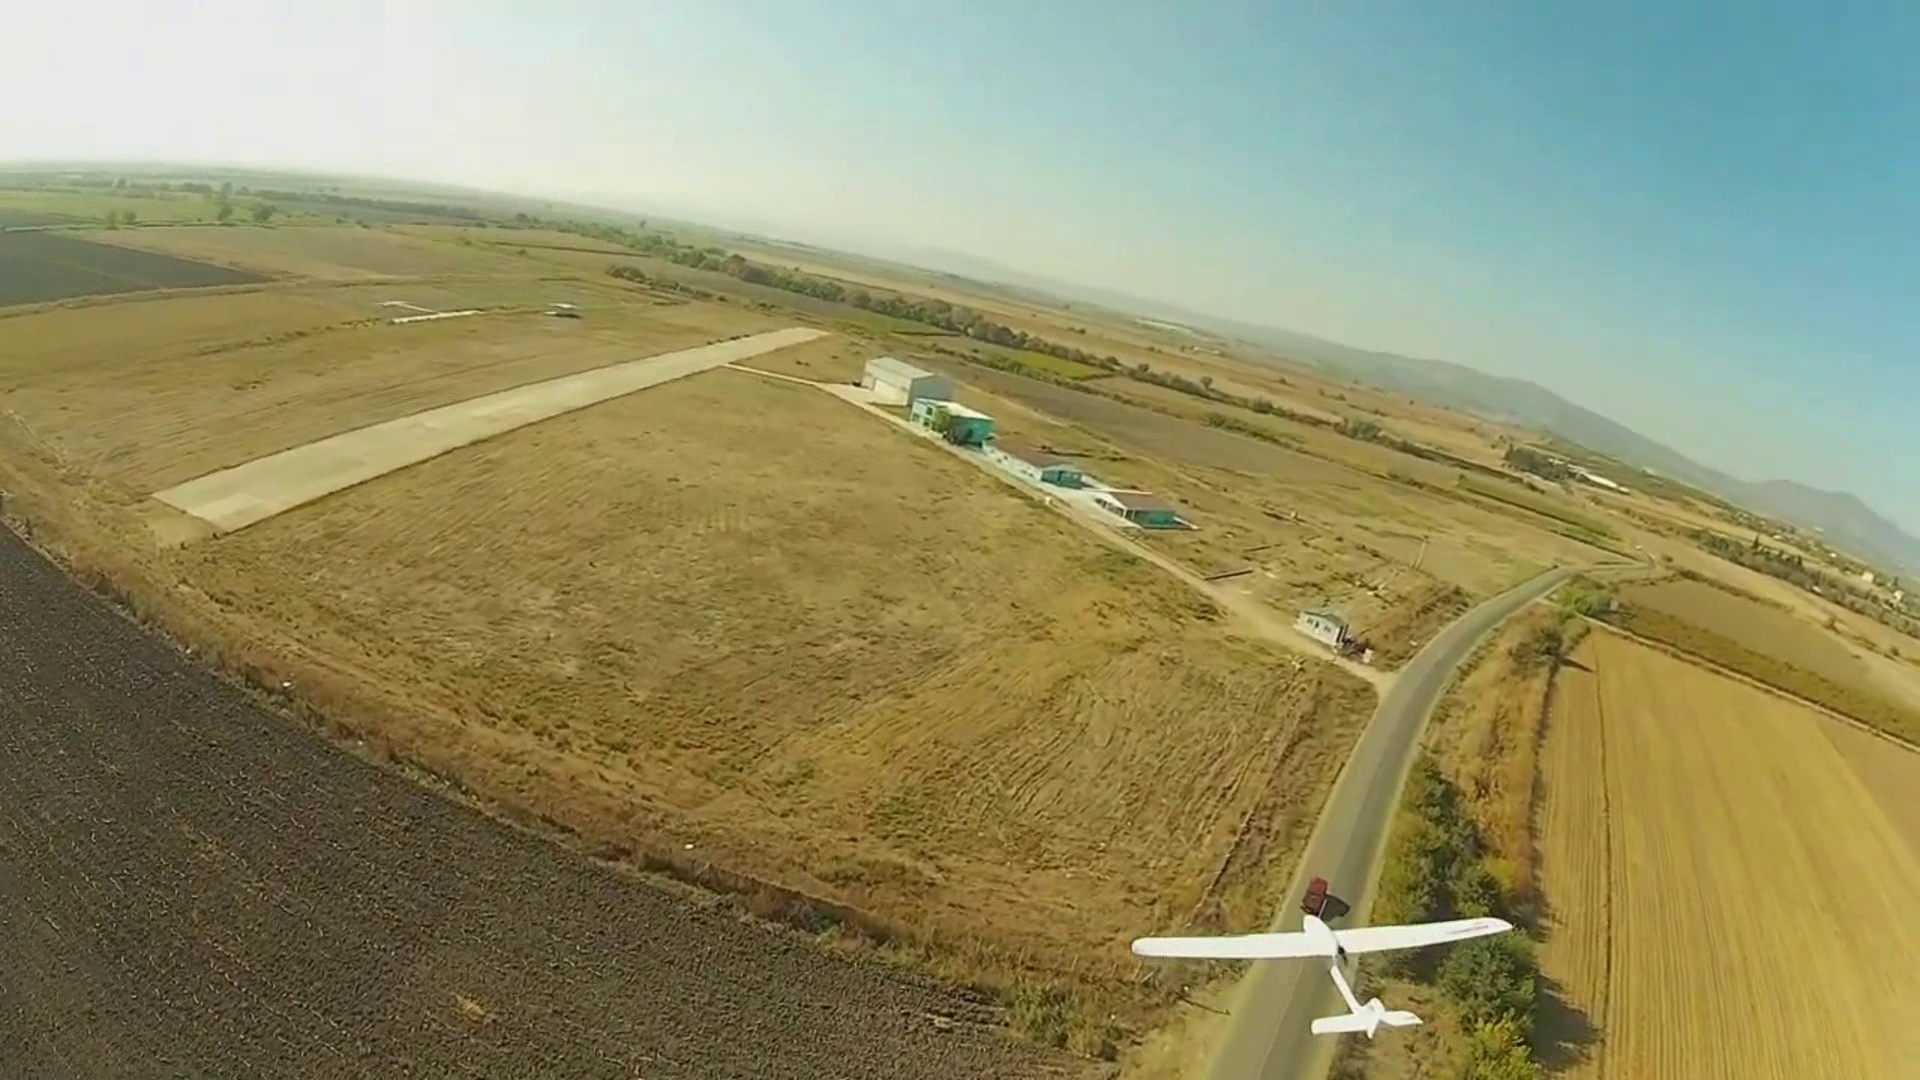airplane: (1129, 555, 1917, 1073)
